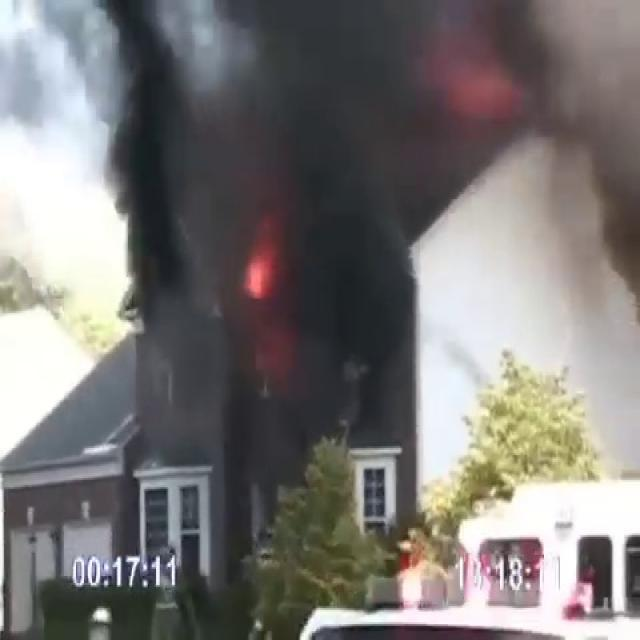Smoke: (85, 0, 640, 535)
